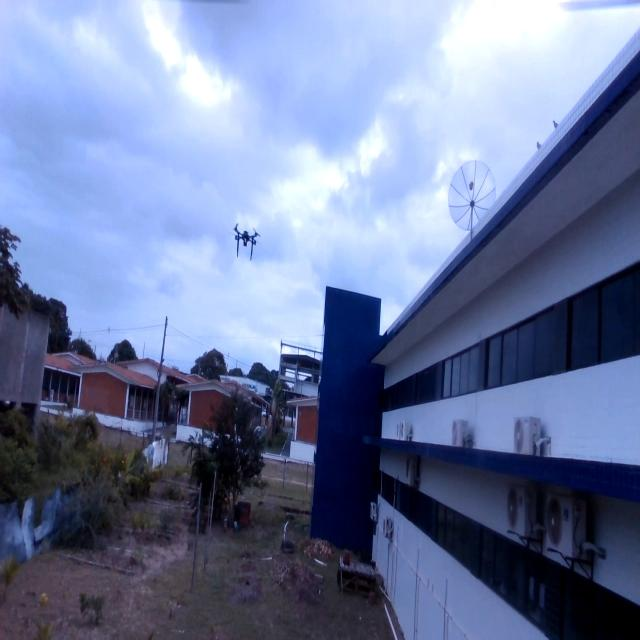-uav-: (228, 216, 264, 271)
